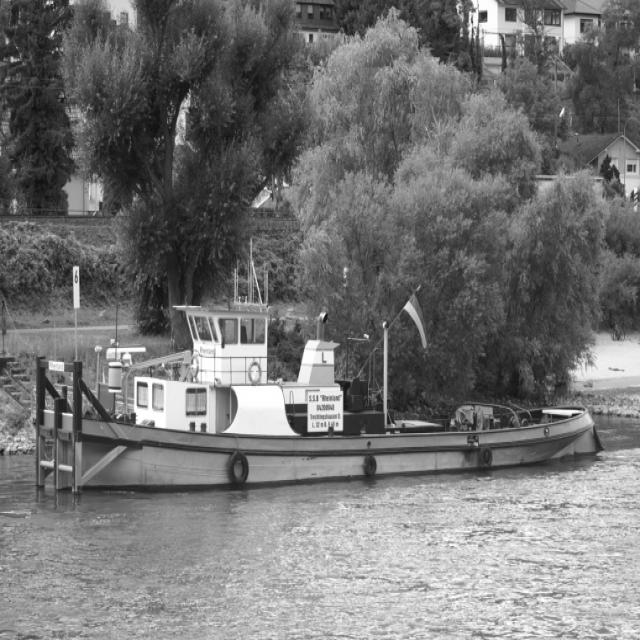tugboat: (27, 237, 610, 519)
